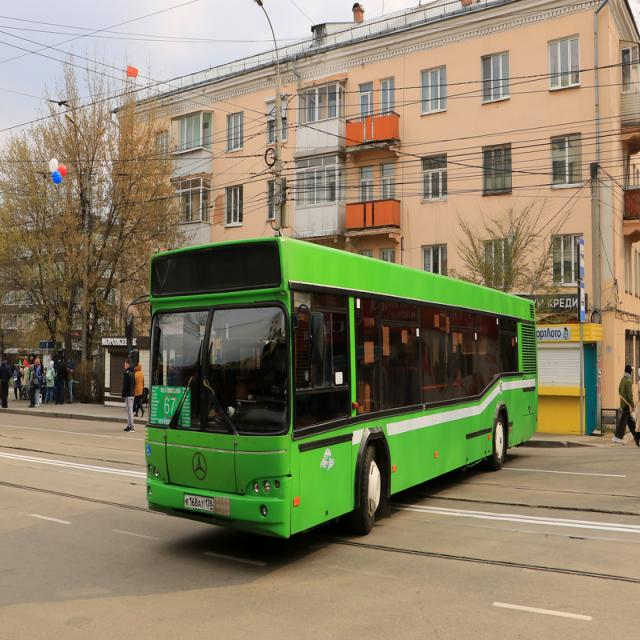number-of-bus: (164, 396, 177, 418)
